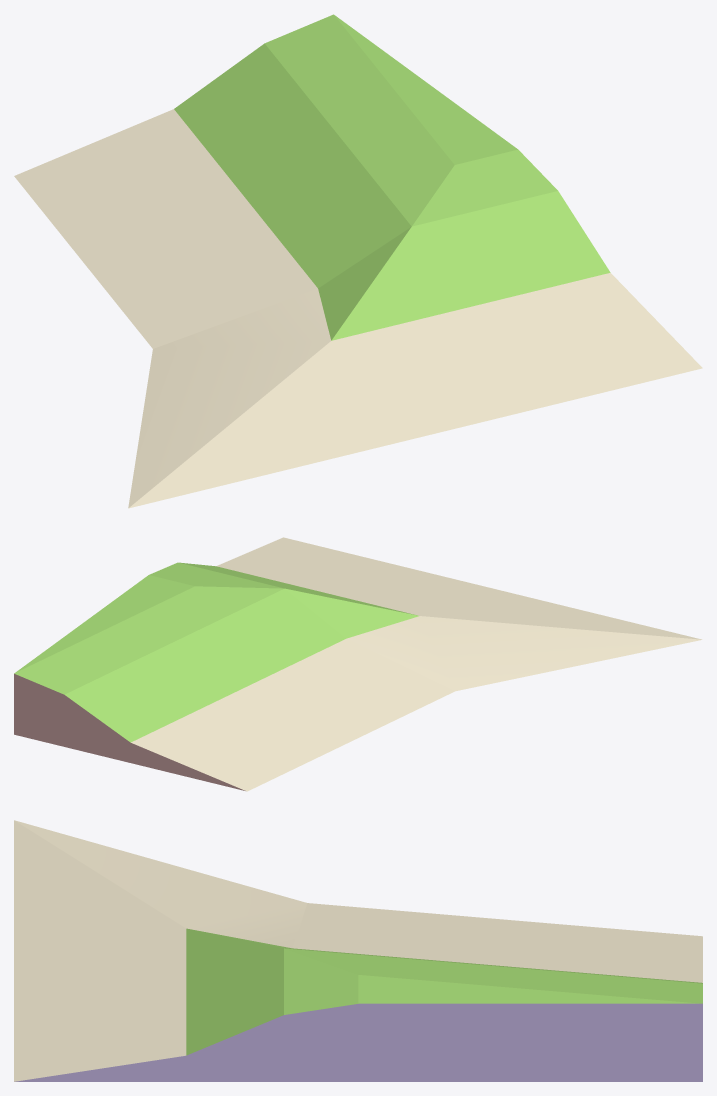
Rendered from Path_Terrain_Y_Curve_Inner_1x2.fbx.
3 views of the same model, one above another, from view 1: azimuth 30°, elevation 25°; view 2: azimuth 150°, elevation 25°; view 3: azimuth 270°, elevation 25° (orthographic). The views are drawn at different scales.
Visible parts, largest first — view 1: Path_Terrain_Y_Curve_Inner_1x2; view 2: Path_Terrain_Y_Curve_Inner_1x2; view 3: Path_Terrain_Y_Curve_Inner_1x2.
Part boxes in pixels (<box>): Path_Terrain_Y_Curve_Inner_1x2: <box>14,14,702,508</box>; Path_Terrain_Y_Curve_Inner_1x2: <box>14,537,702,791</box>; Path_Terrain_Y_Curve_Inner_1x2: <box>14,820,702,1081</box>.
Bounding box in the file's own units: 180 × 25 × 200.
